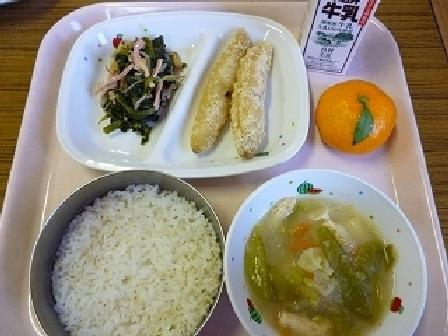Citrus: (316, 69, 401, 165)
Milk: (296, 0, 379, 74)
Rice: (25, 163, 219, 329)
Soups: (231, 172, 425, 333)
salad with sauce: (86, 28, 185, 135)
snacks: (185, 22, 284, 154)
